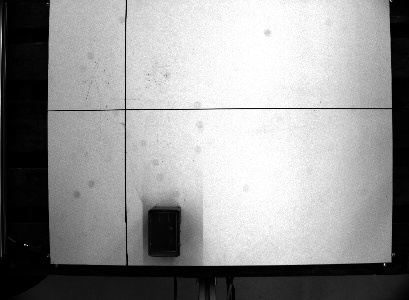kltxs: (145, 202, 183, 259)
